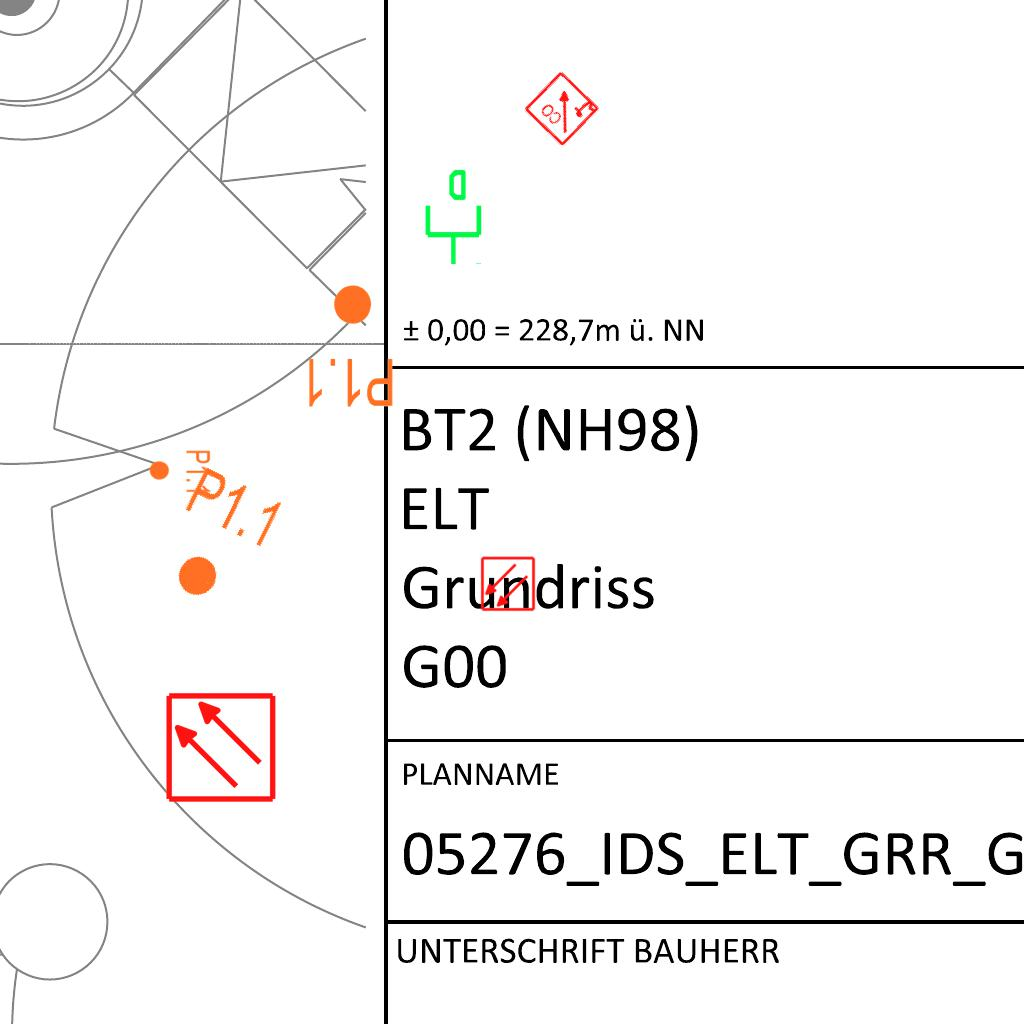Datenanschluss_einfach: (417, 167, 486, 267)
Downlight_LED_Einbauleuchten_Flur: (148, 462, 289, 618), (303, 282, 396, 410), (148, 449, 212, 495)
RMO_Rauchmelder_optischer: (164, 691, 277, 804), (480, 556, 536, 612)
ROA_Rauchmelder_optisch_mit_Signalgeber_(Sockelsirene): (522, 68, 602, 148)
